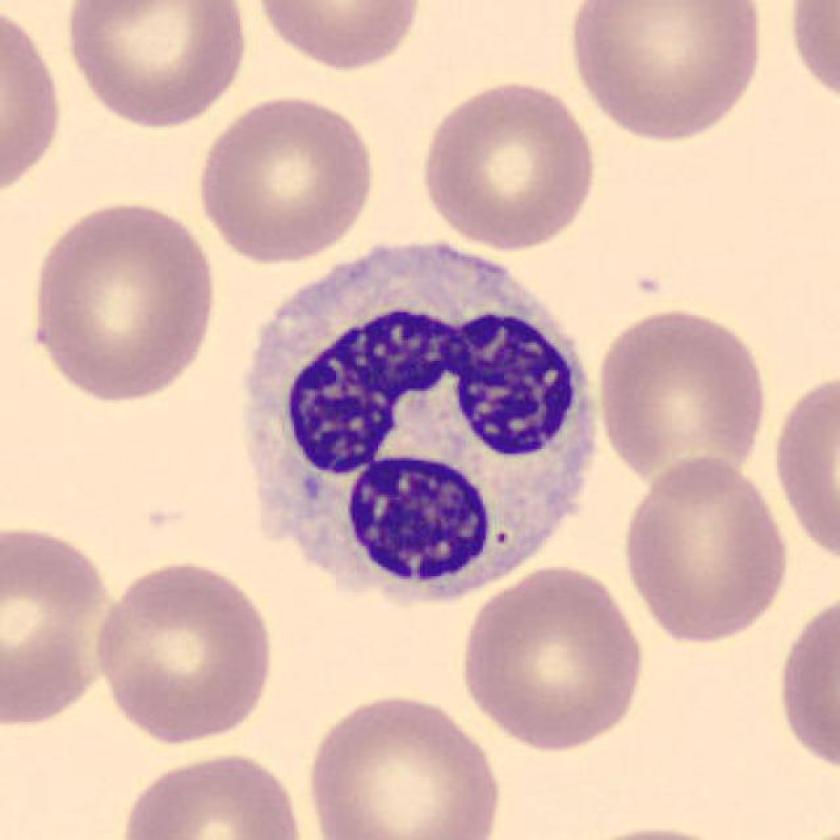neutrophil: (247, 244, 595, 602)
